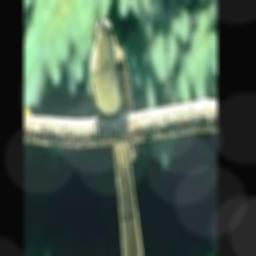Cuckoo: (89, 19, 143, 256)
